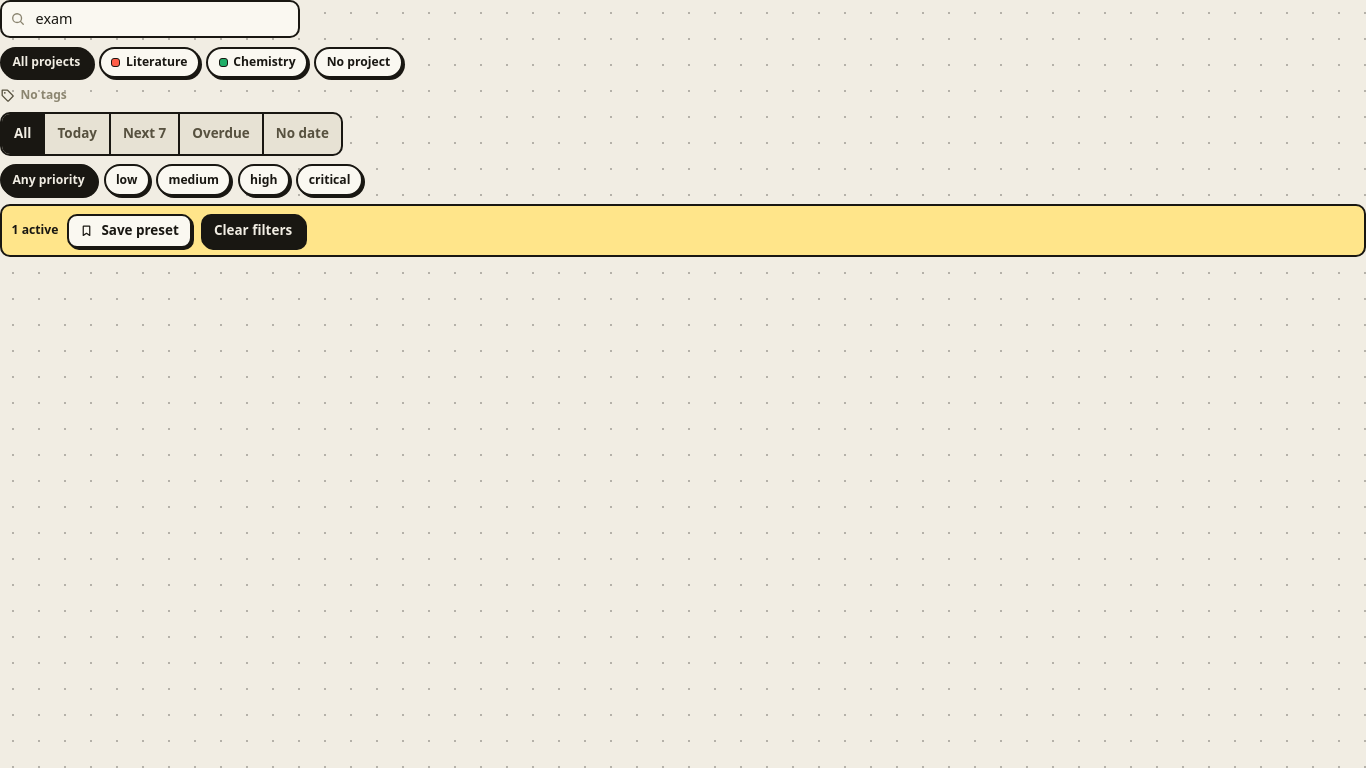
Test: Feature 15 Adversarial: FilterBar modal preset saving, validation, dismissal, focus, and mobile row › escape key dismissal: dismisses modal on Escape keydown without saving
Click the button "Save preset" at (130, 230), box [67,214,192,248]
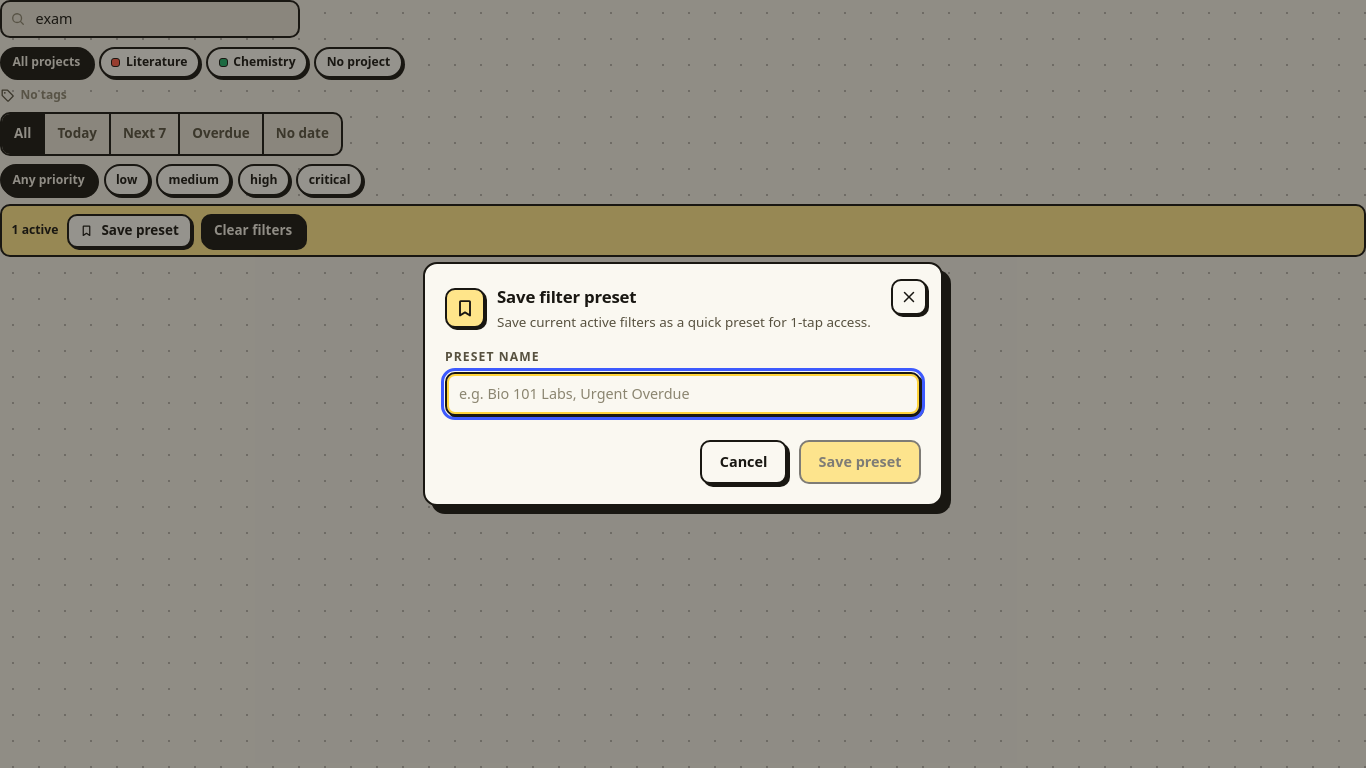
Check: the dialog "Save filter preset" is shown, box [423,262,943,506]
# Press Escape key on document
Press Escape
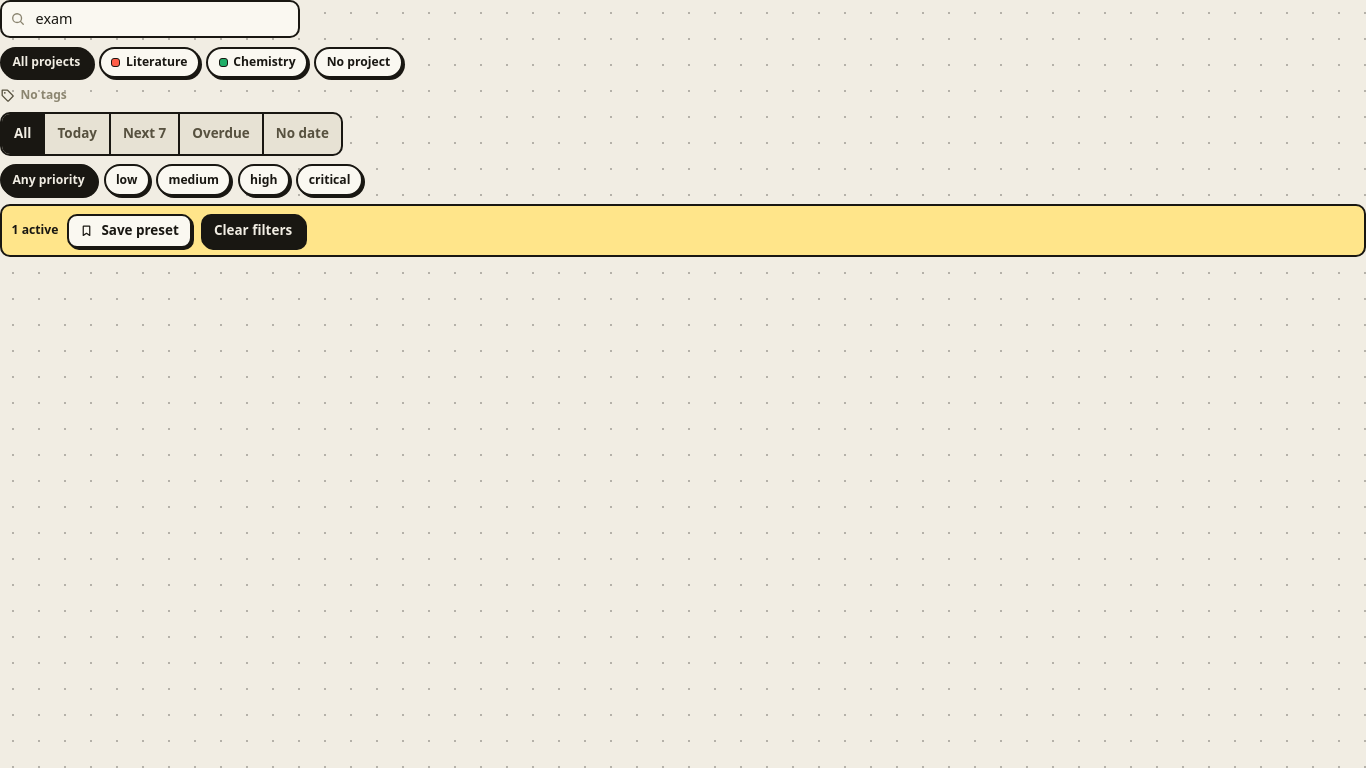
Check: the dialog is gone
